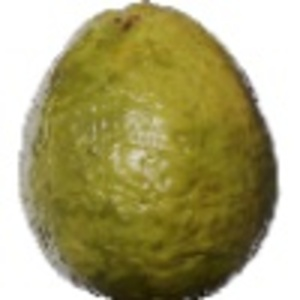goiaba: (13, 1, 281, 297)
